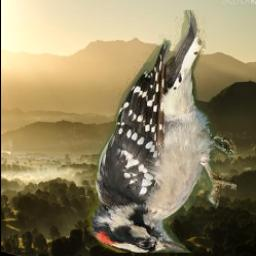Woodpecker: (86, 11, 236, 254)
